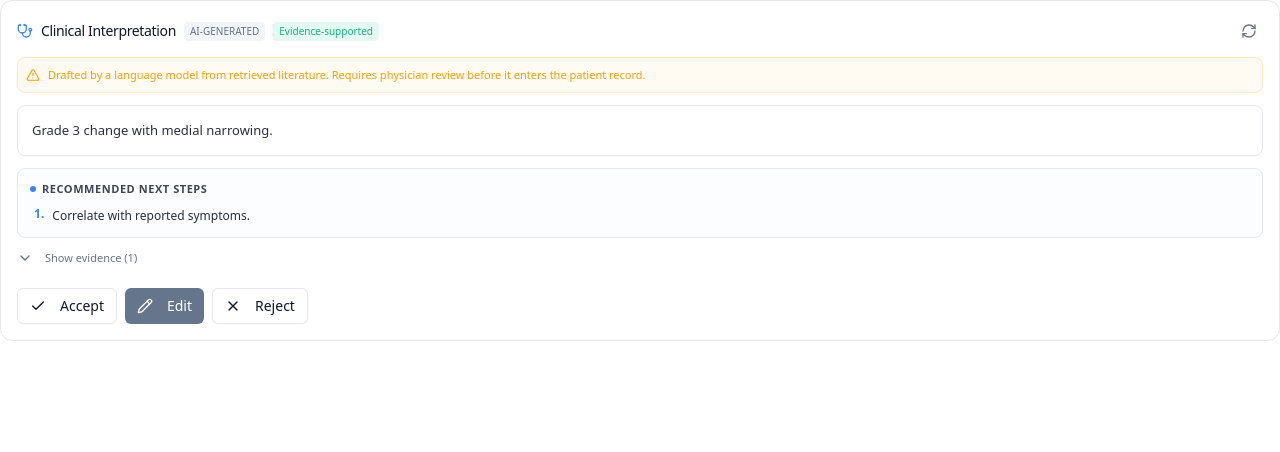
it: ClinicalNotePanel › shows each part's score against its own threshold in the evidence
Expected: the text "Evidence-supported" is shown, [273,22,379,40]
Step 1. Click the button "Show evidence (1)" → x=77, y=258, box [17,250,137,266]
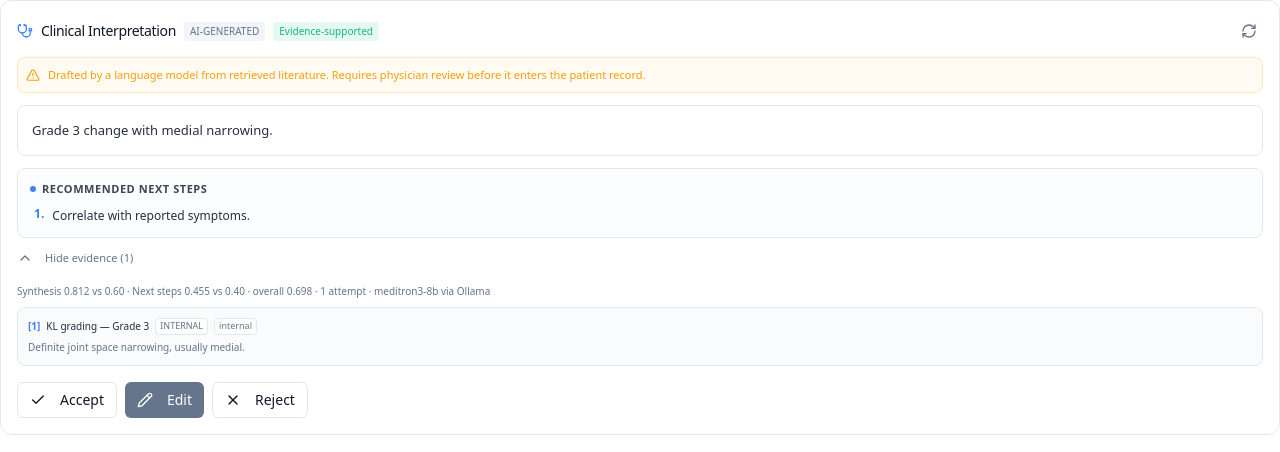
Result: the element with test id "clinical-note-evidence" shows "Synthesis 0.812 vs 0.60" at [17,284,1263,366]
Result: the element with test id "clinical-note-evidence" shows "Next steps 0.455 vs 0.40" at [17,284,1263,366]
